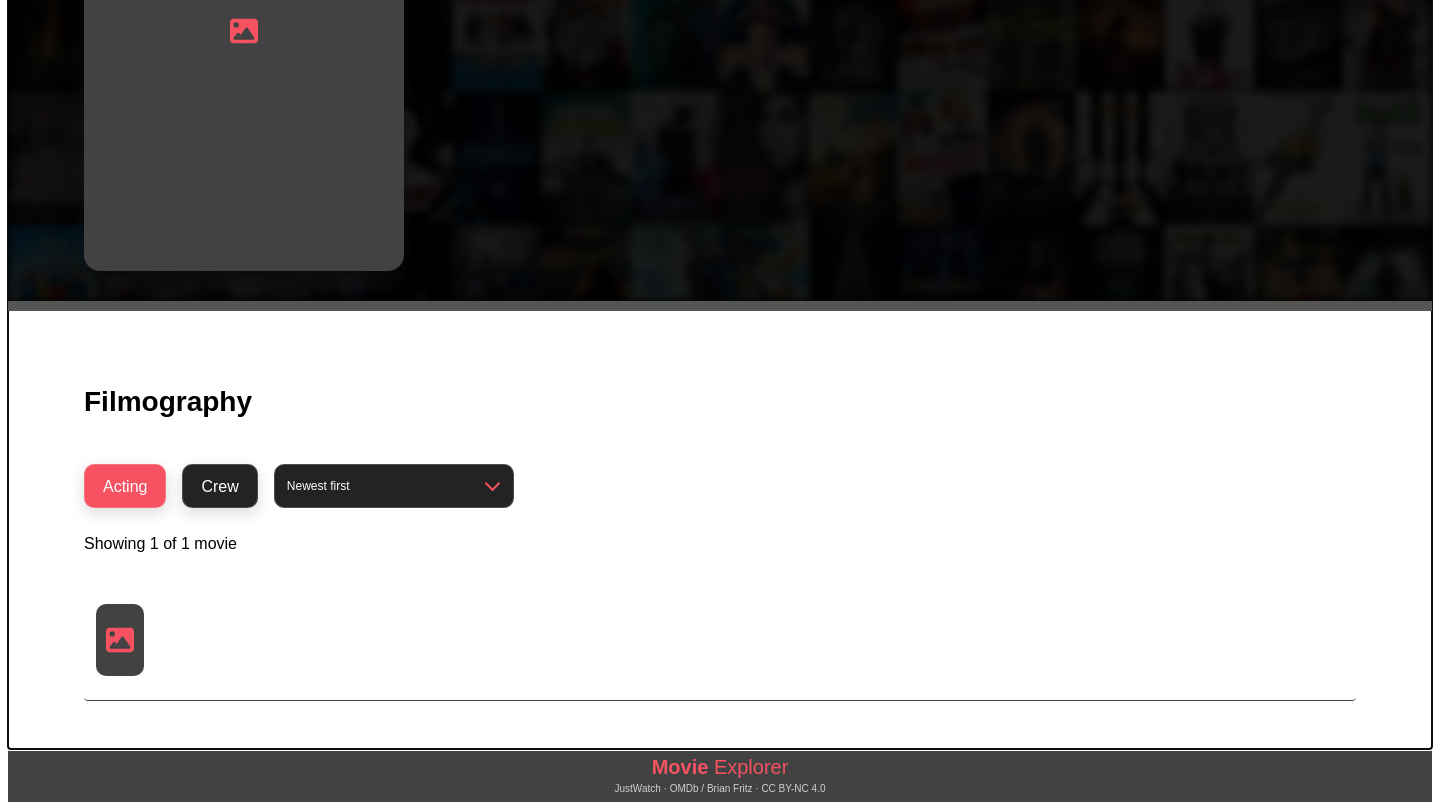
it: renders missing posters, dates, characters and job information without fabricated values
The image size is (1440, 810).
(page scrolled)
Expected: the heading "Filmography" is shown, [84, 386, 252, 417]
Click the button "Crew": (220, 486) [182, 464, 258, 508]
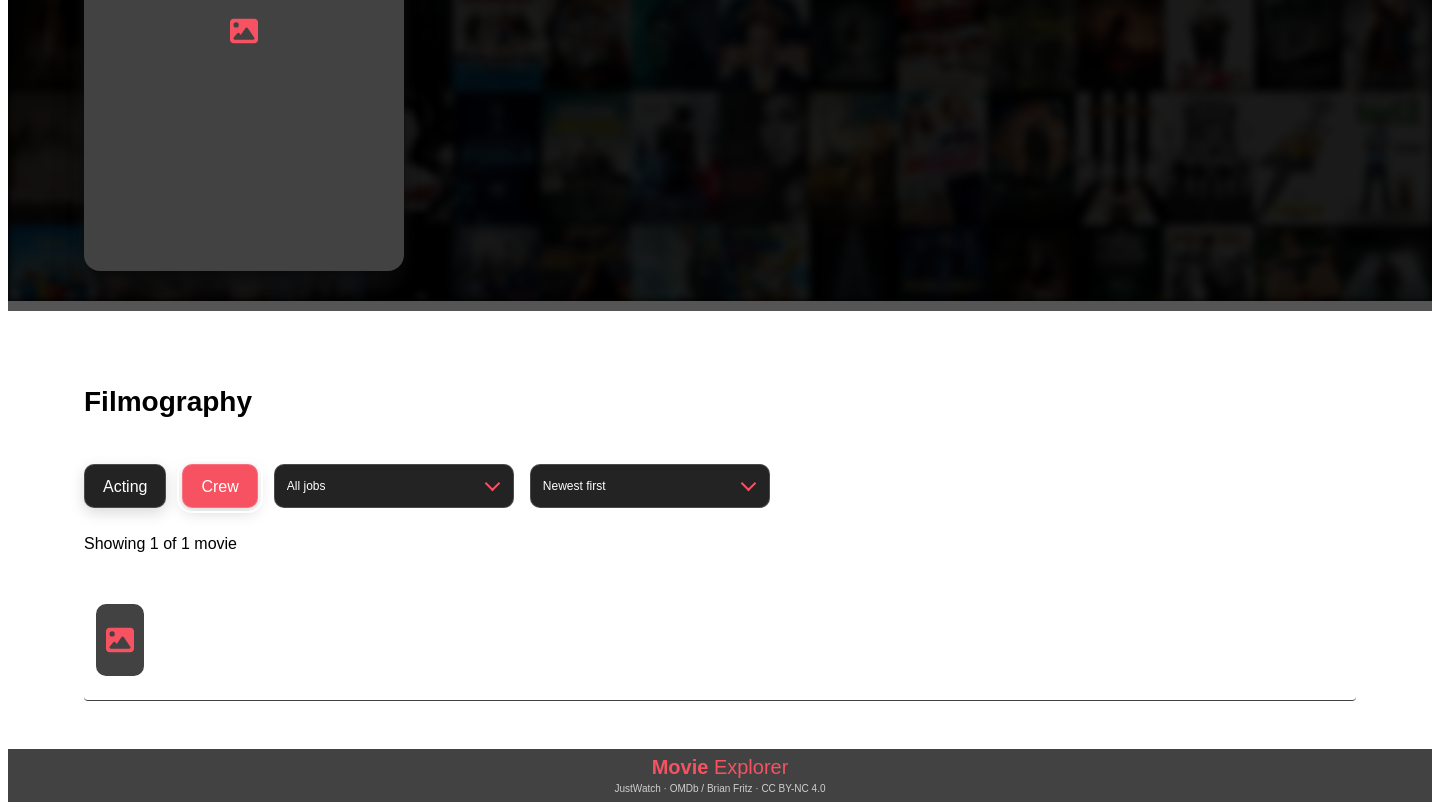
Click the dropdown named "Job or department": (394, 486) [274, 464, 514, 508]
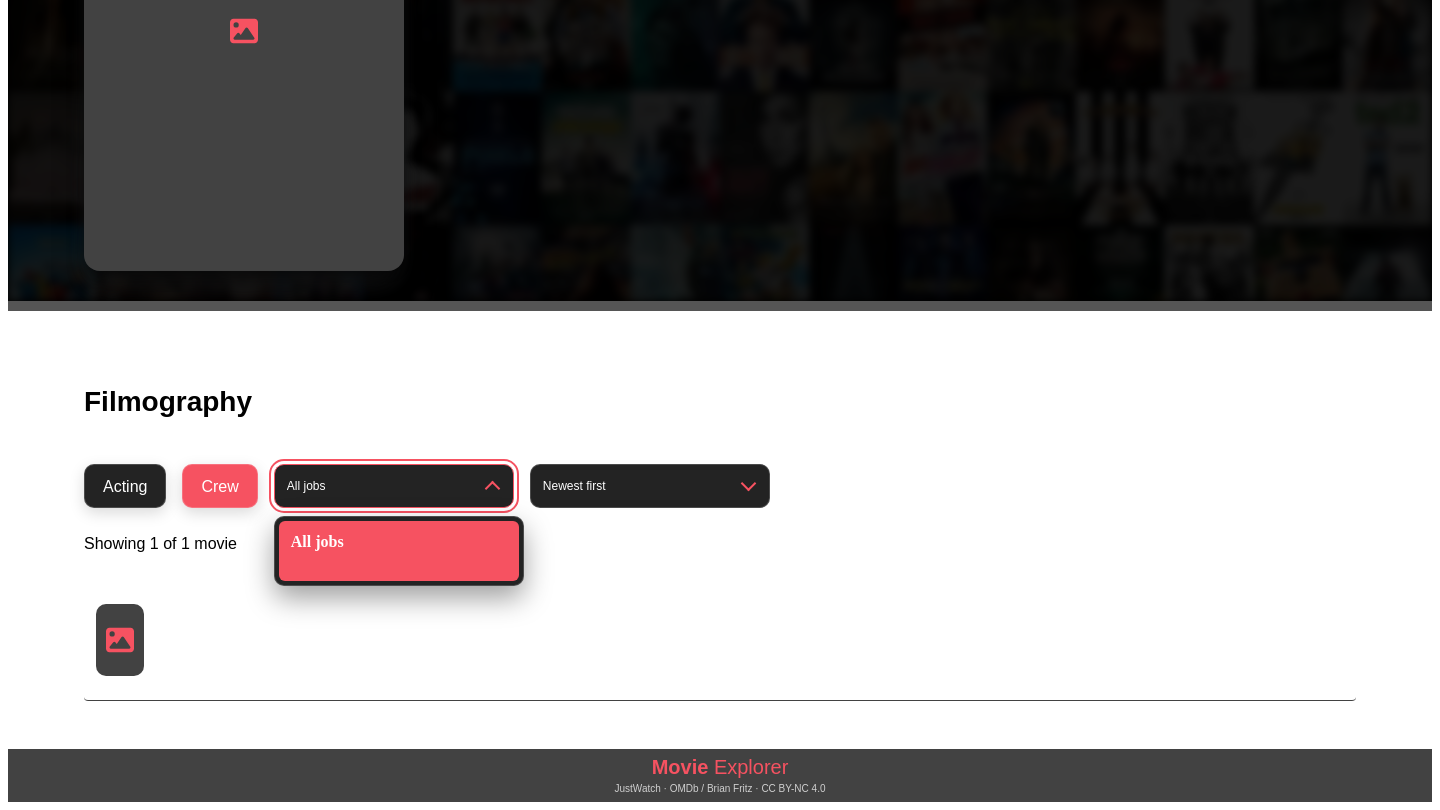
Expected: the options read "All jobs", in this order, [279, 521, 519, 581]
Click the dropdown named "Job or department": (394, 486) [274, 464, 514, 508]
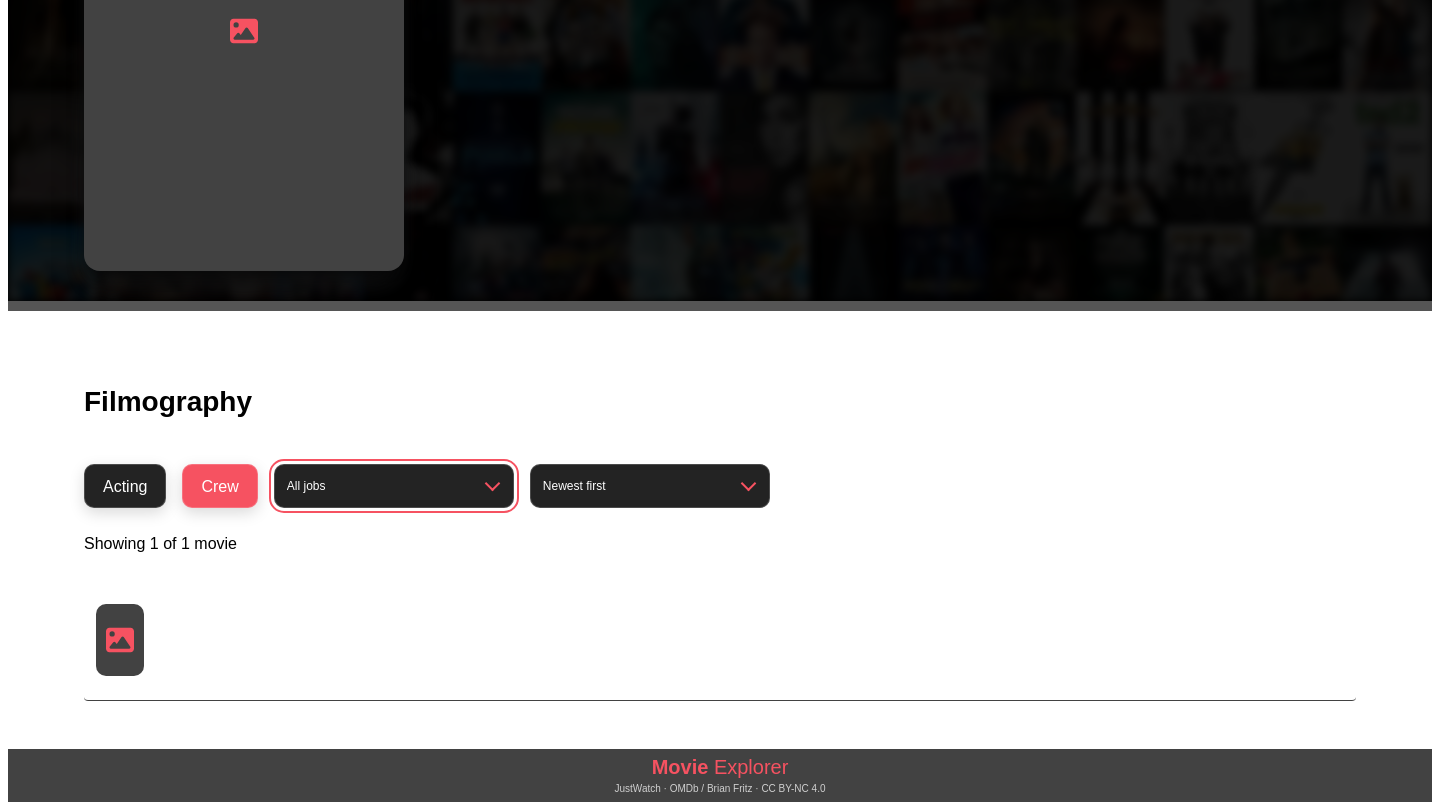
Click the dropdown named "Sort filmography": (650, 486) [530, 464, 770, 508]
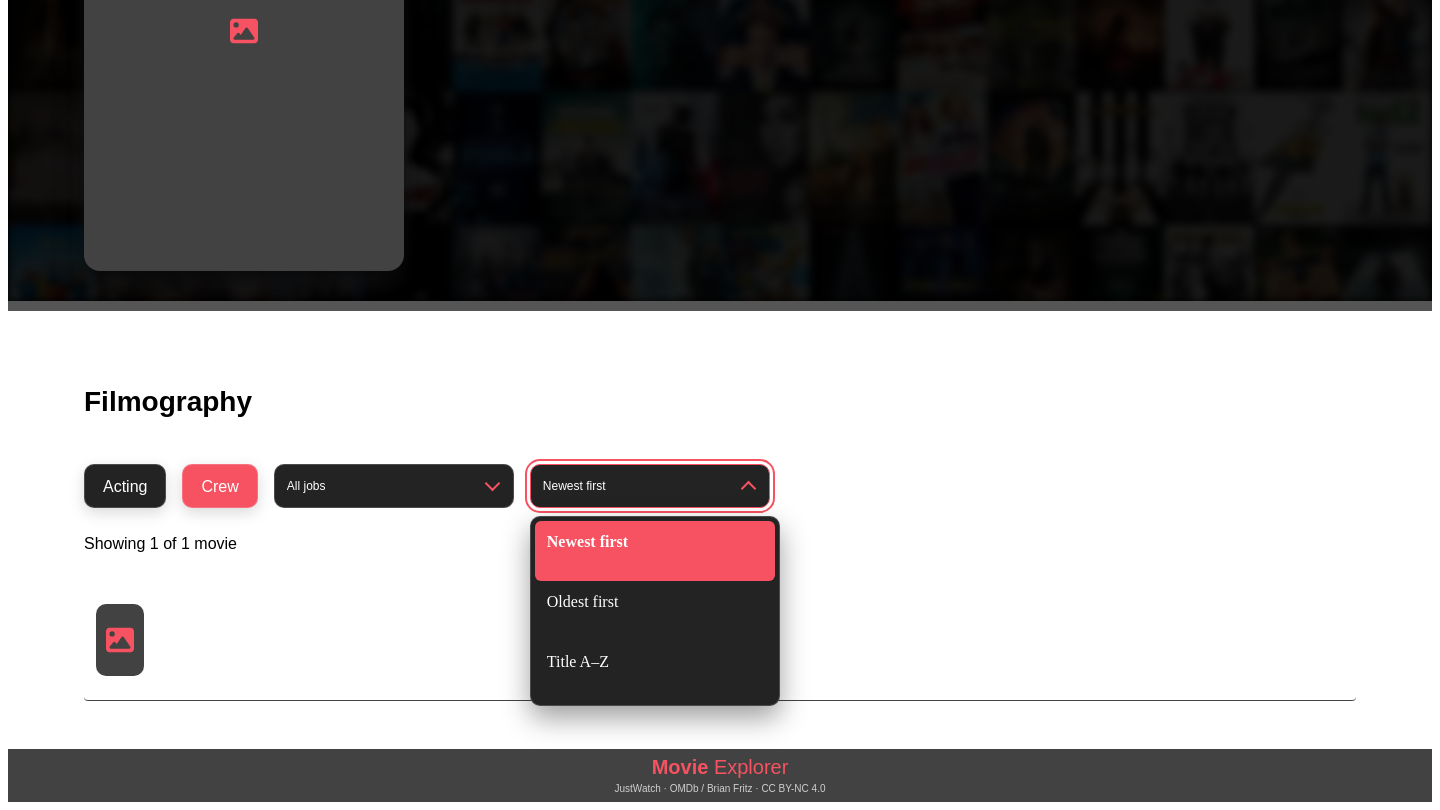
Expected: the options read "Newest first", "Oldest first", "Title A–Z", in this order, [535, 521, 775, 581]; [547, 593, 618, 610]; [547, 653, 609, 670]
